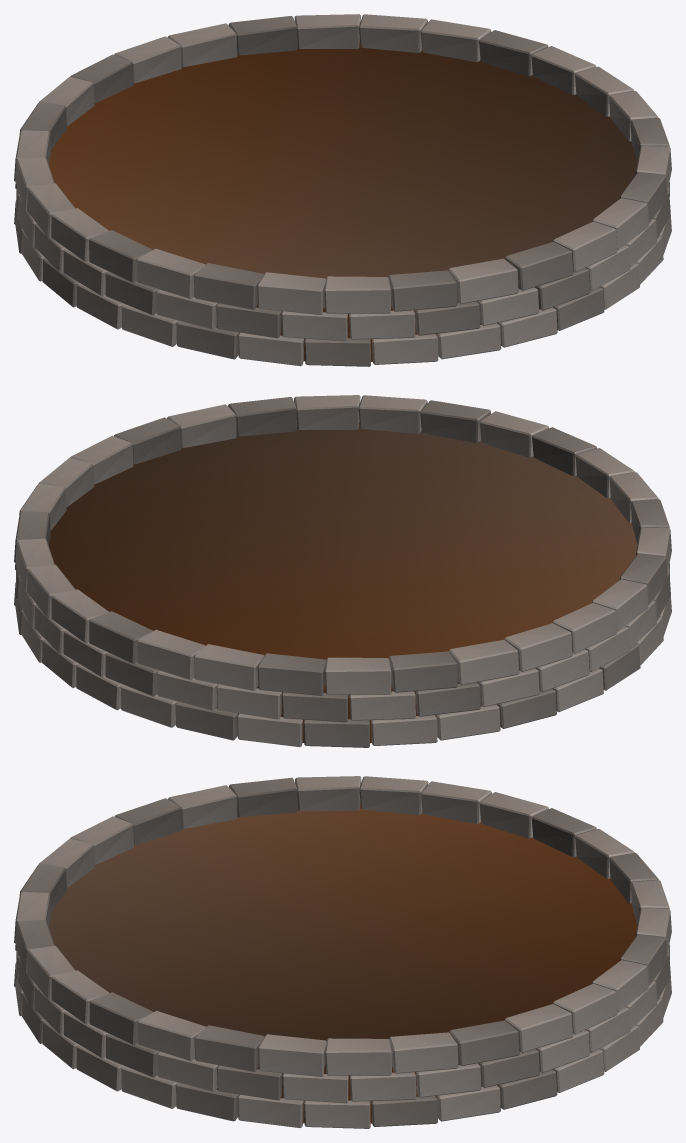
The model's file is block_02.fbx.
The picture shows the model from 3 angles, top to bottom: view 1: azimuth 30°, elevation 25°; view 2: azimuth 150°, elevation 25°; view 3: azimuth 270°, elevation 25°; orthographic projection.
Visible parts, largest first — view 1: Block_02; view 2: Block_02; view 3: Block_02.
Boxes of the visible parts, x1,y1,x2,y2 form: Block_02: [14, 14, 671, 366]; Block_02: [14, 395, 671, 747]; Block_02: [14, 776, 671, 1128].
Bounding box in the file's own units: 1258 × 166 × 1256.
1 material, 1 textured.
